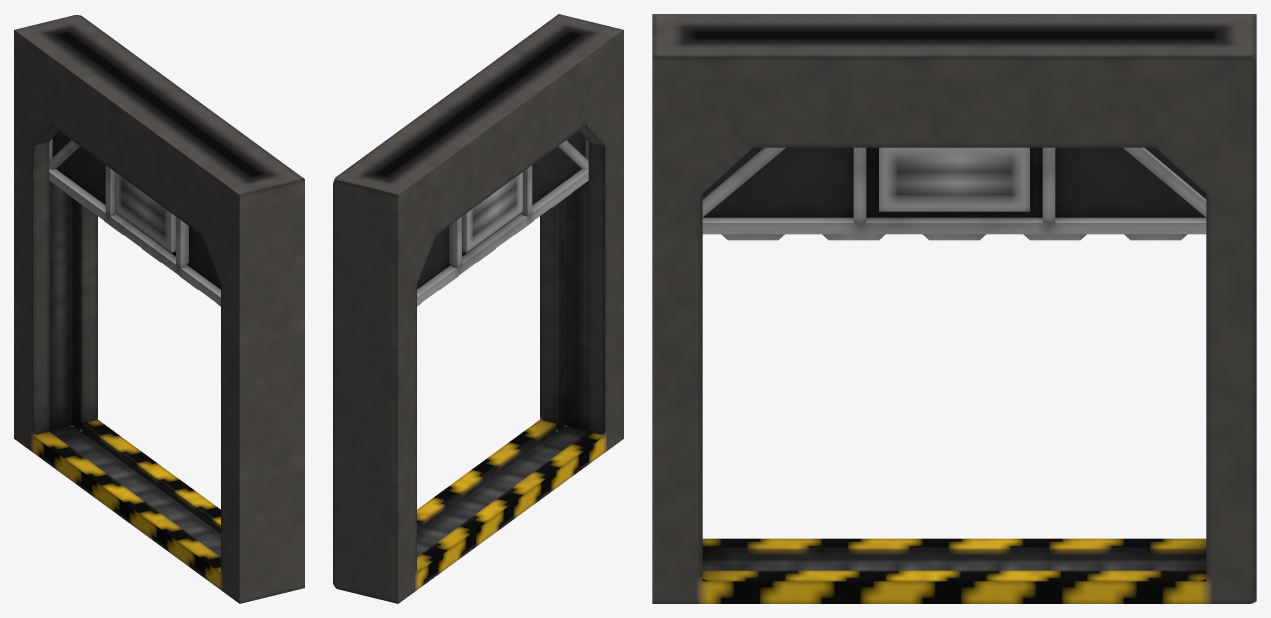
File: qe_containment_131.obj
3 renders of one model, left to right at view 1: azimuth 30°, elevation 25°; view 2: azimuth 150°, elevation 25°; view 3: azimuth 270°, elevation 25°, orthographic. The views are drawn at different scales.
Parts seen in each view (by area): view 1: Frame, Door; view 2: Frame, Door; view 3: Frame, Door.
Part boxes in pixels (x1,y1,x2,y2): Frame: (14,15,304,603); Door: (49,131,220,306); Frame: (333,14,623,603); Door: (417,131,588,306); Frame: (652,14,1256,603); Door: (702,147,1206,240).
Bounding box in the file's own units: 0.5 × 3 × 3.
